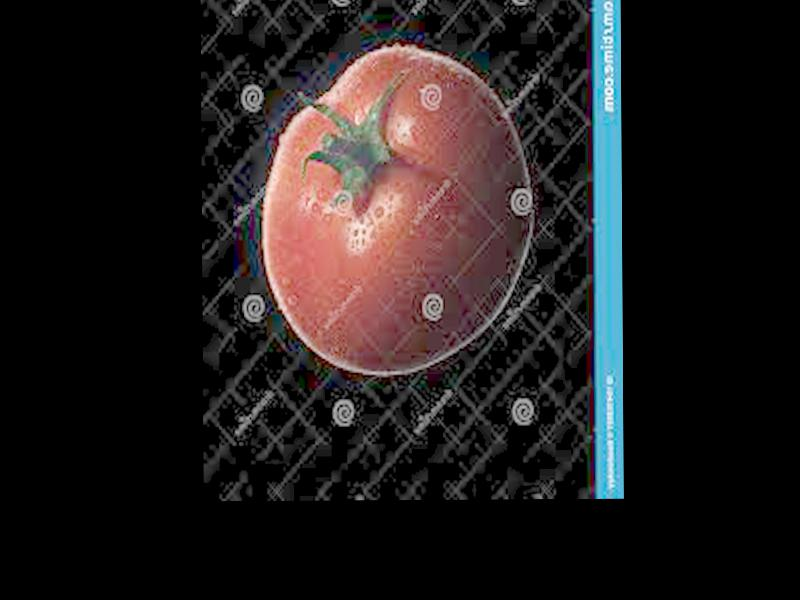Tomato: (261, 44, 531, 377)
